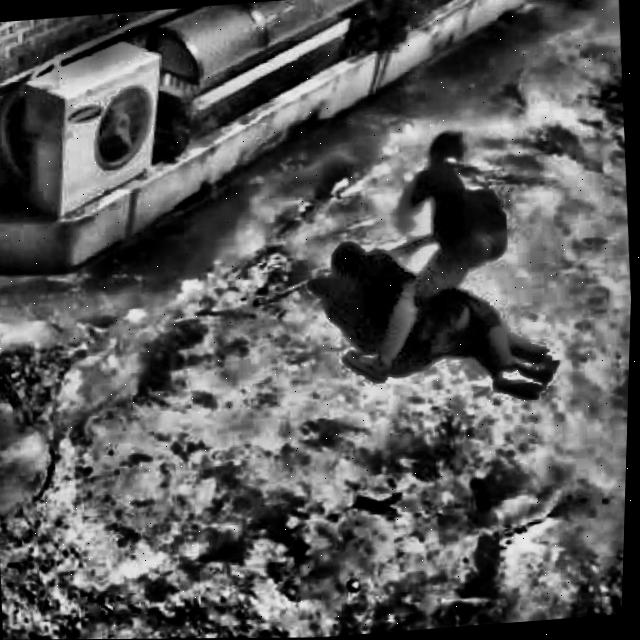robbery: (297, 126, 573, 403)
